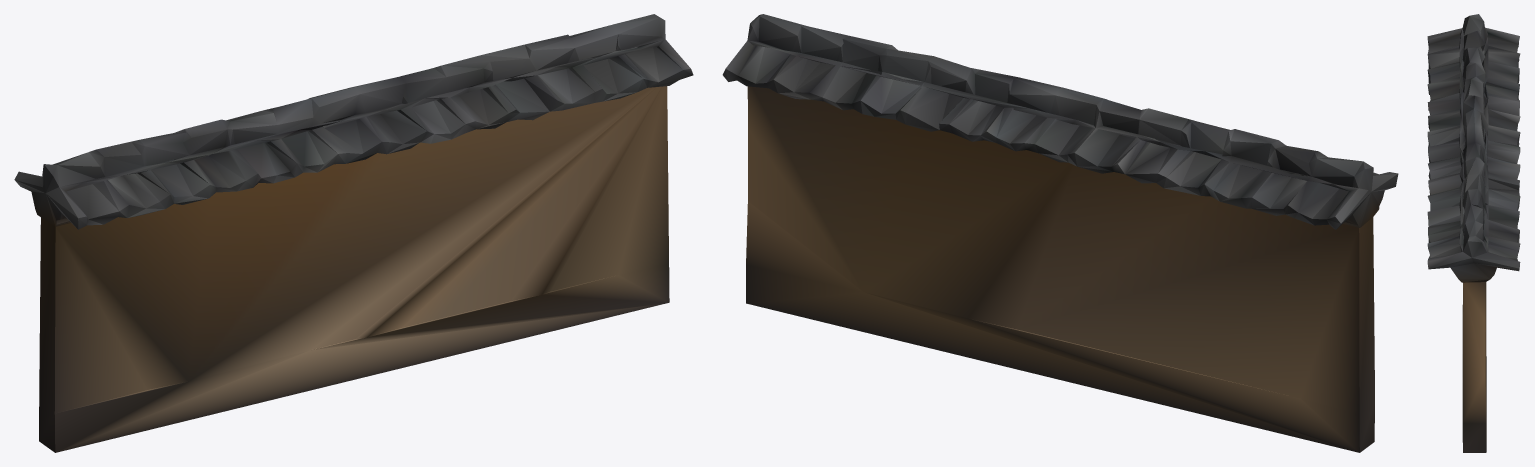
Rendered from wall.glb.
3 renders of one model, left to right at view 1: azimuth 30°, elevation 25°; view 2: azimuth 150°, elevation 25°; view 3: azimuth 270°, elevation 25°, orthographic. The views are drawn at different scales.
Size of the model in its own units: 5.46 by 2.4 by 0.94.
